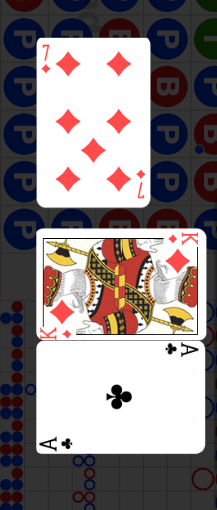7D: (40, 43, 53, 75)
AC: (40, 434, 77, 452)
KD: (166, 230, 200, 245)
